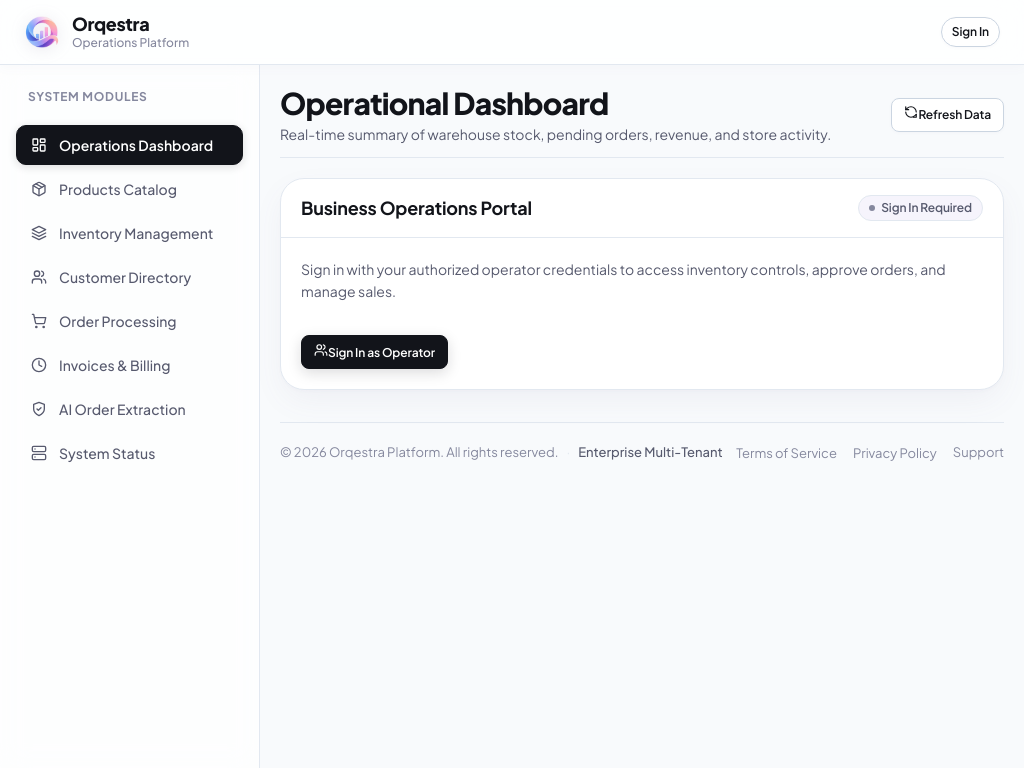
Test: App Root Component › navigates to System Status and renders access-controlled status page
The width and height of the screenshot is (1024, 768).
Click the button "System Status" at (130, 453), box [16,433,243,473]
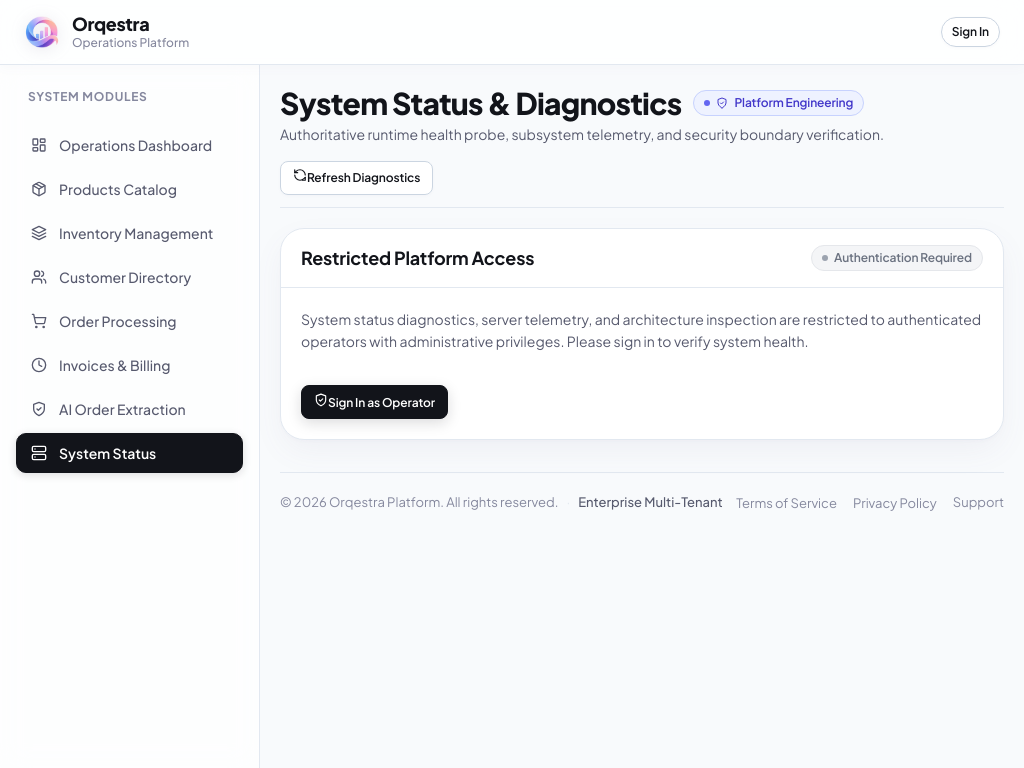
Now the heading "System Status & Diagnostics" is shown, box [280,85,681,121]
Now the heading "Restricted Platform Access" is shown, box [301,247,534,268]
